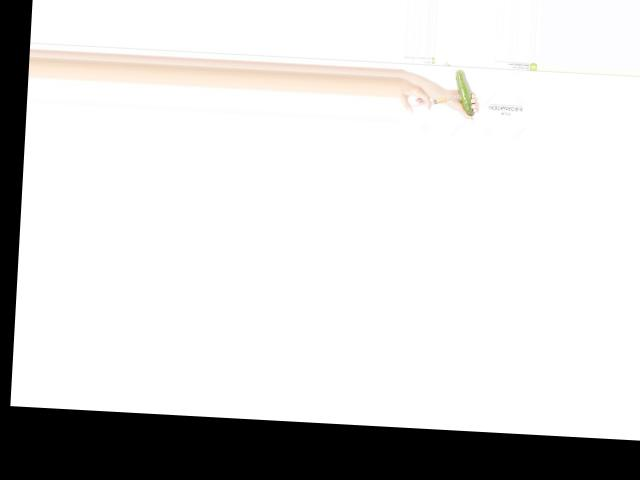cucumber: (452, 69, 476, 116)
